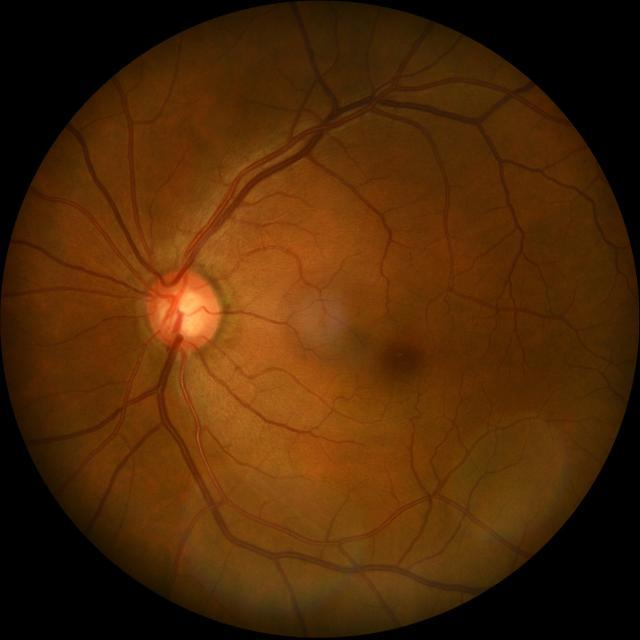OC: (160, 288, 204, 338)
OD: (146, 268, 221, 350)
